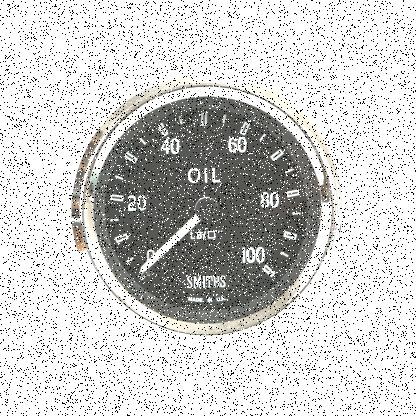needle: (137, 214, 203, 276)
